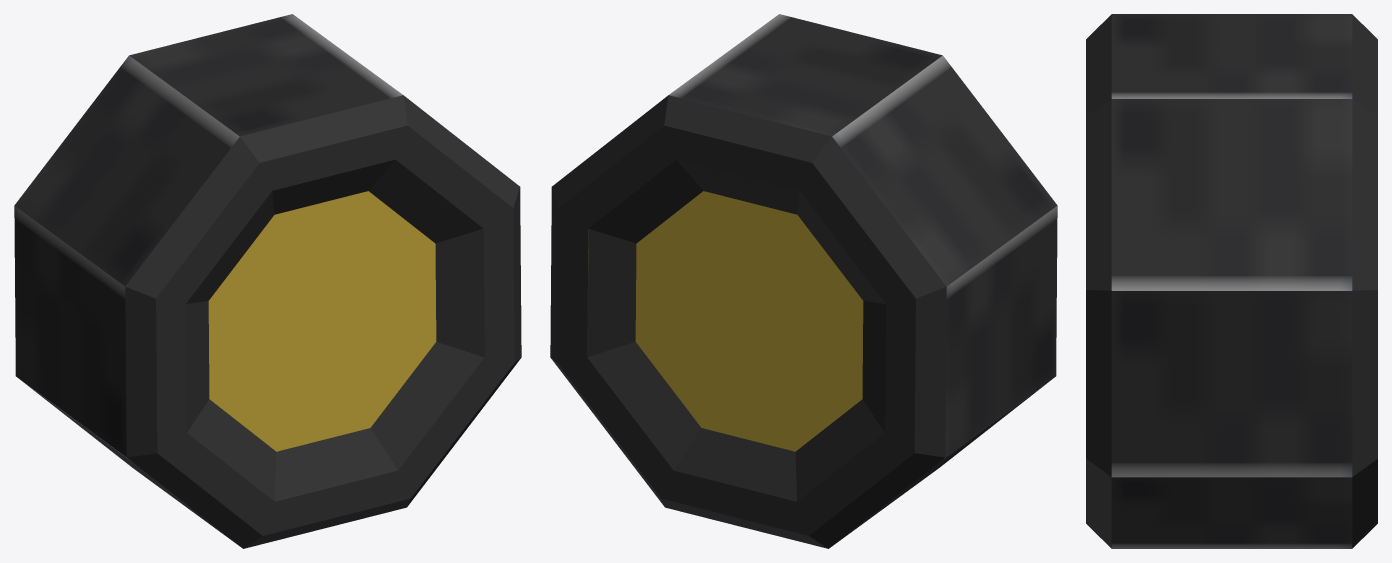
Rendered from RodaFrontalJorge.fbx.
3 renders of one model, left to right at view 1: azimuth 30°, elevation 25°; view 2: azimuth 150°, elevation 25°; view 3: azimuth 270°, elevation 25°, orthographic. The views are drawn at different scales.
Visible parts, largest first — view 1: Cylinder.001; view 2: Cylinder.001; view 3: Cylinder.001.
Boxes of the visible parts, box(x1,y1,x2,y2) form: Cylinder.001: box(14, 14, 521, 548); Cylinder.001: box(550, 14, 1057, 548); Cylinder.001: box(1086, 14, 1377, 548).
Size of the model in its own units: 51 by 51 by 30.
Materials: 1 (1 with a texture image).
